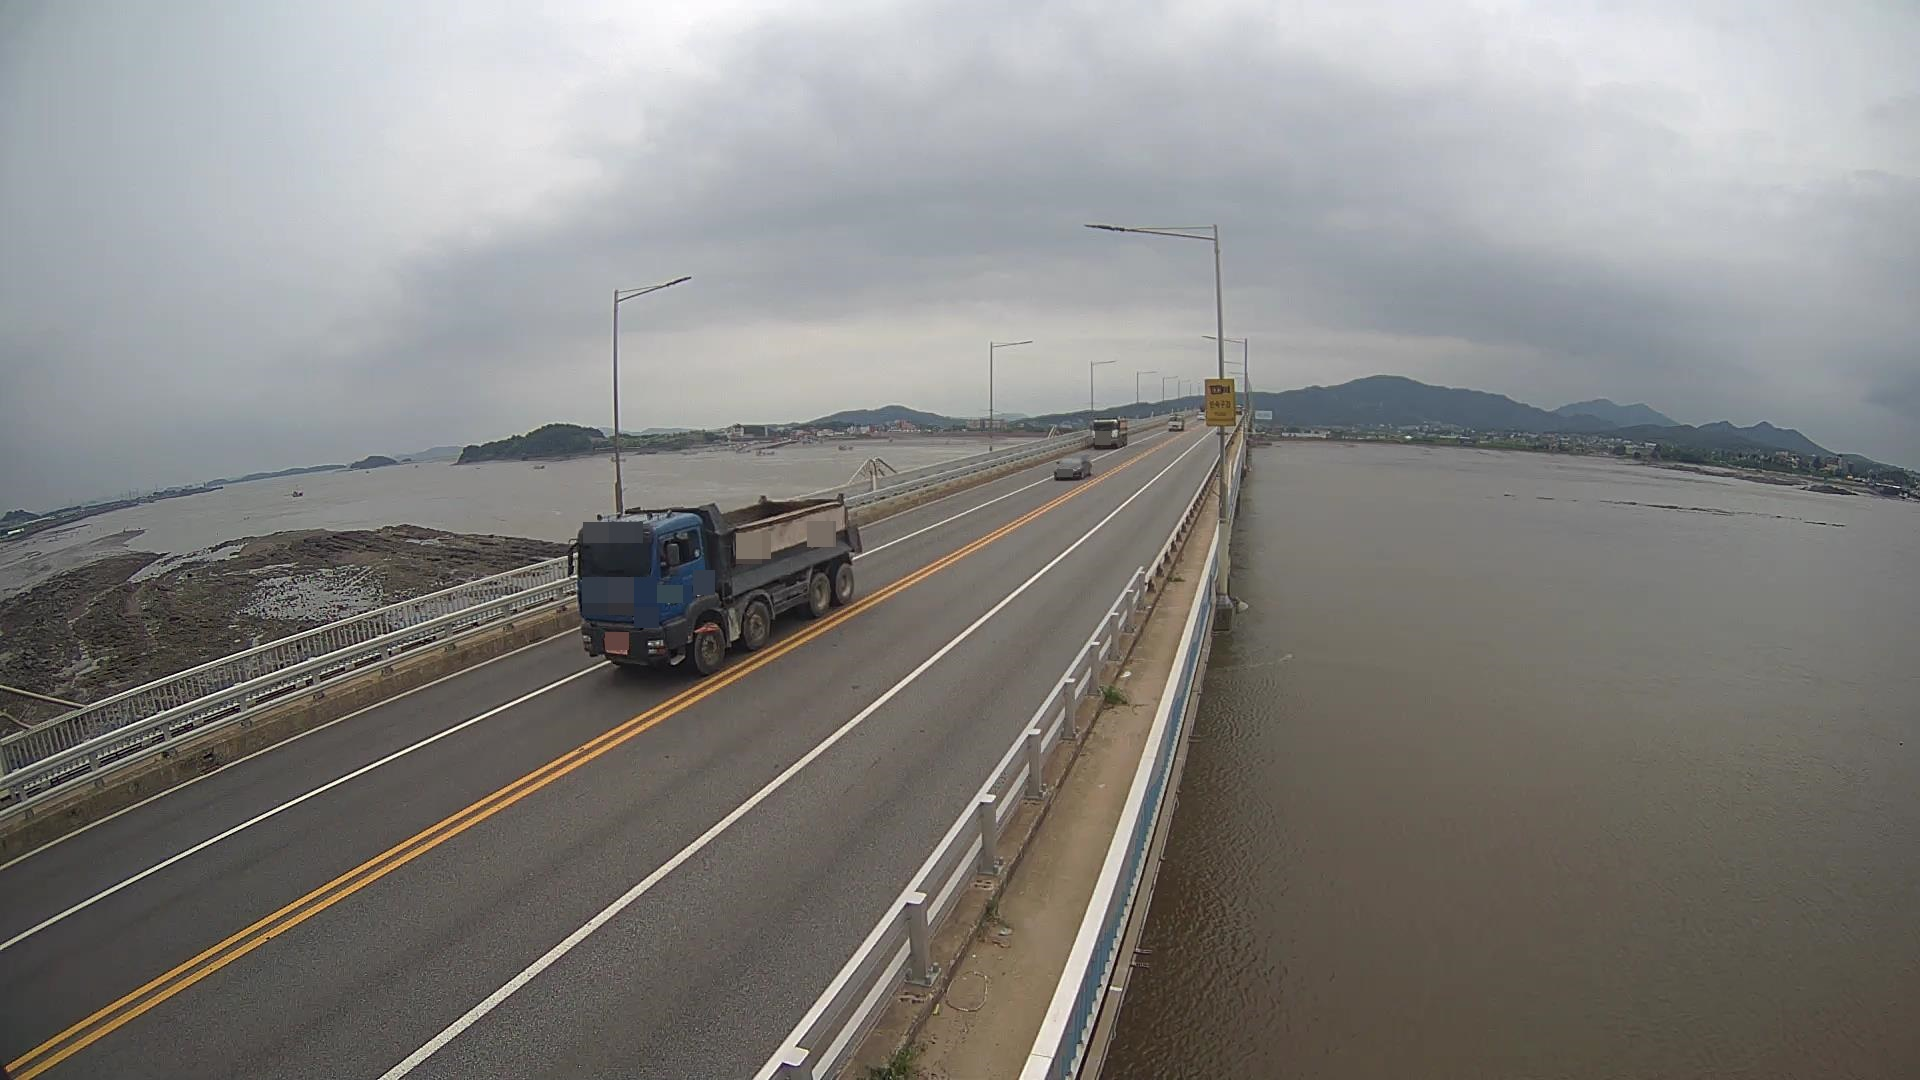정상차량: (568, 493, 863, 676)
